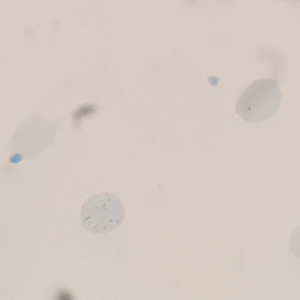erythrocyte: (5, 111, 60, 167)
punctate reticulocyte: (234, 78, 284, 124), (79, 191, 128, 237)
